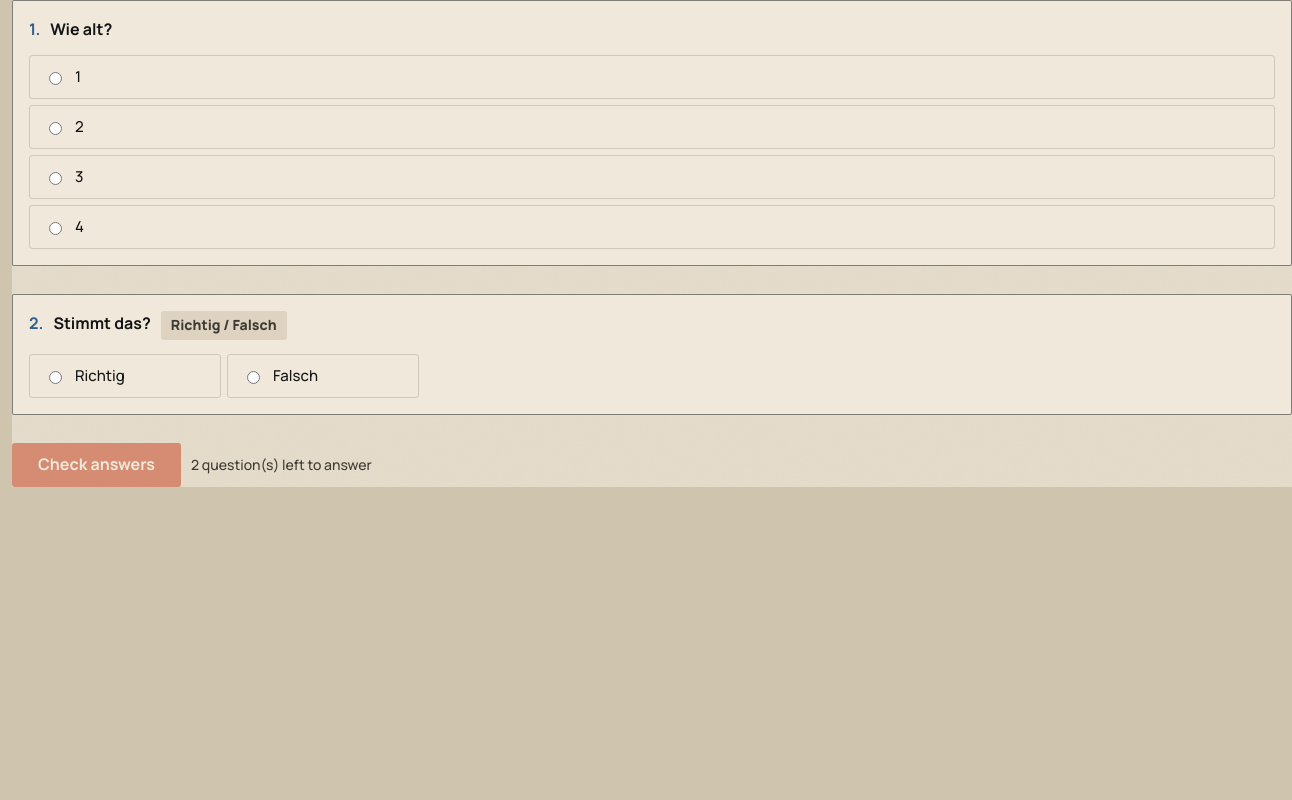
Quiz › congratulates and offers the next text on a perfect score
The width and height of the screenshot is (1292, 800).
Click the radio button labelled "3" at (56, 179), box [49,172,62,186]
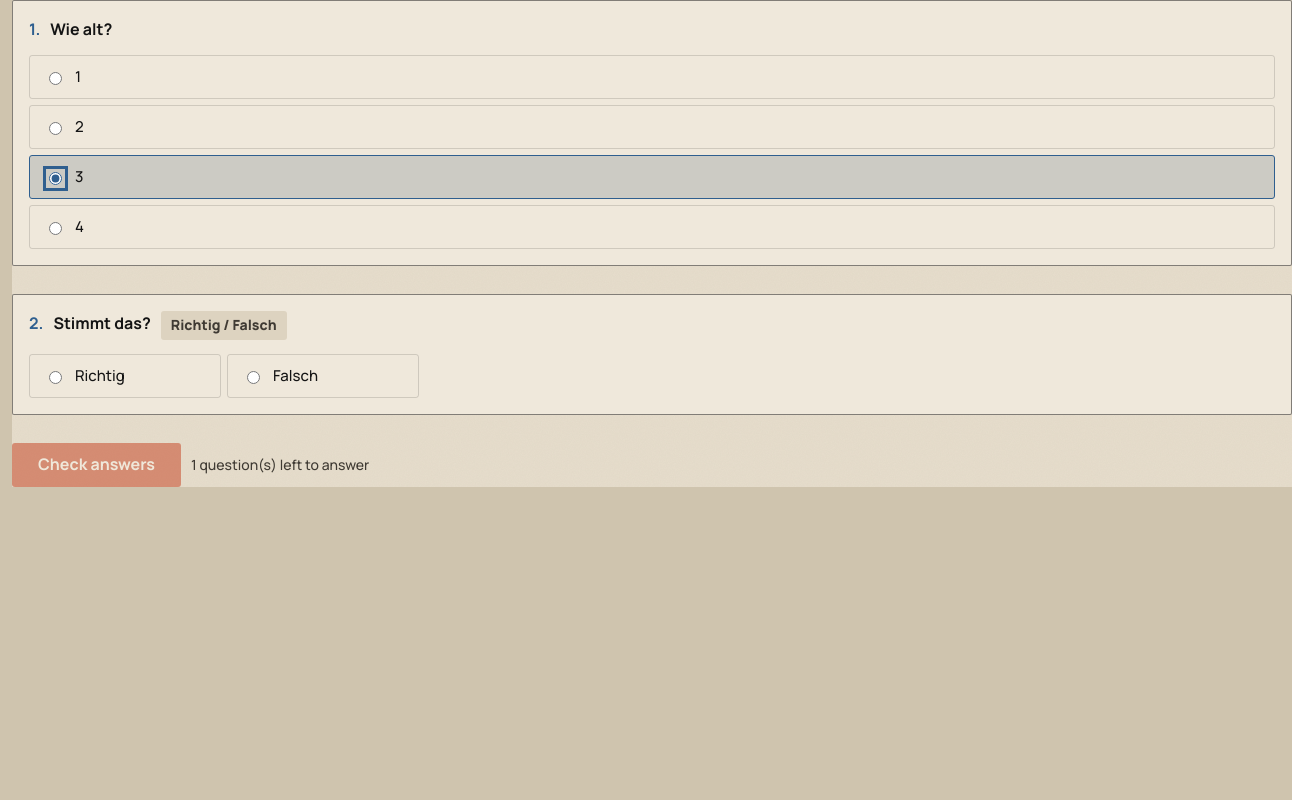
Click the radio button labelled "Falsch" at (254, 378), box [247,371,260,384]
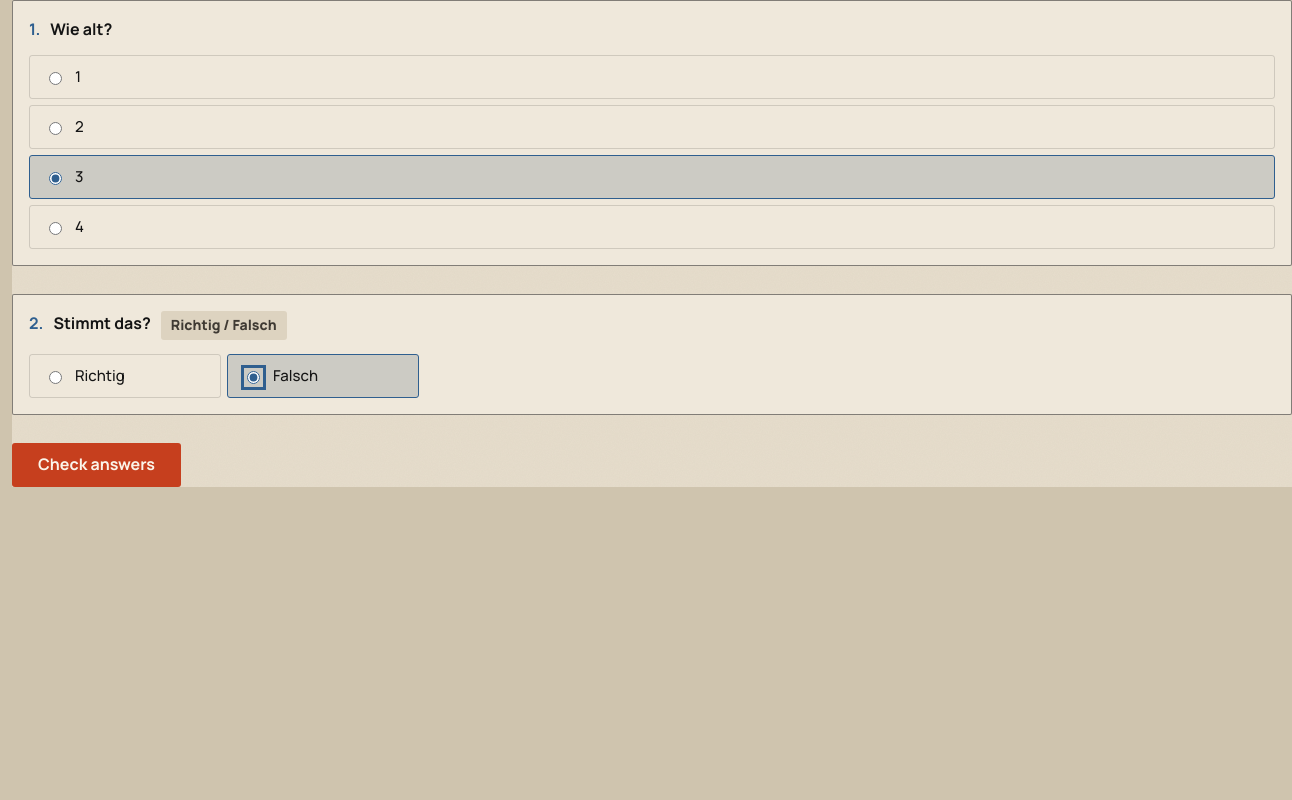
Click the button "Check answers" at (96, 465), box [12,443,181,487]
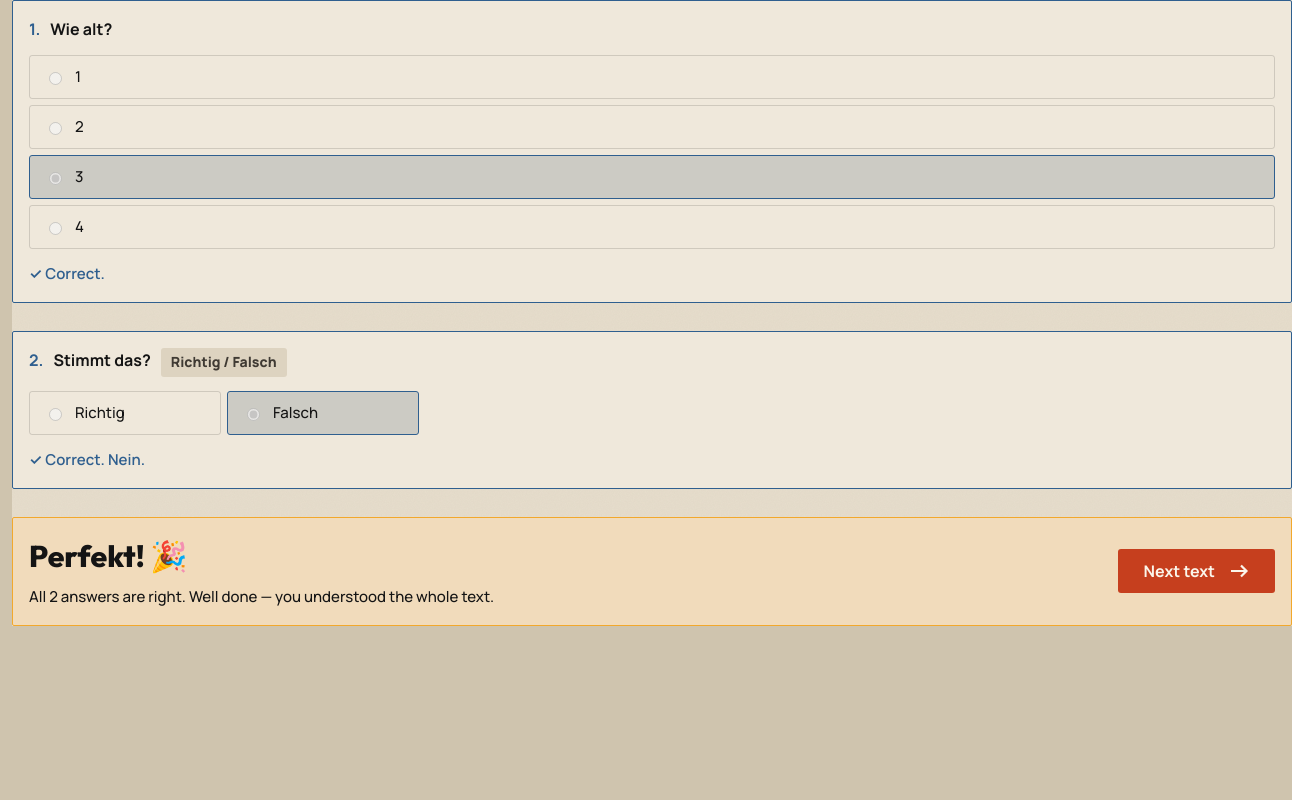
expect the text "Perfekt! 🎉" is shown: met, box [29,537,188,575]
